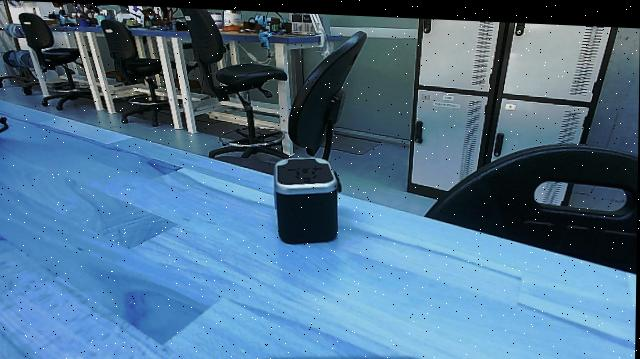adapter: (270, 149, 352, 245)
